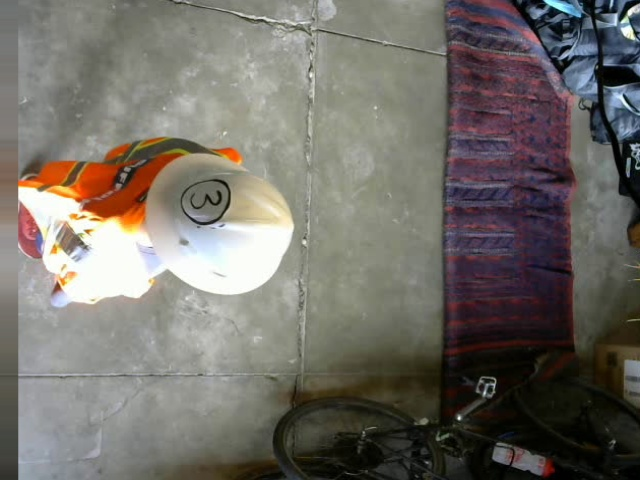three: (180, 177, 231, 225)
